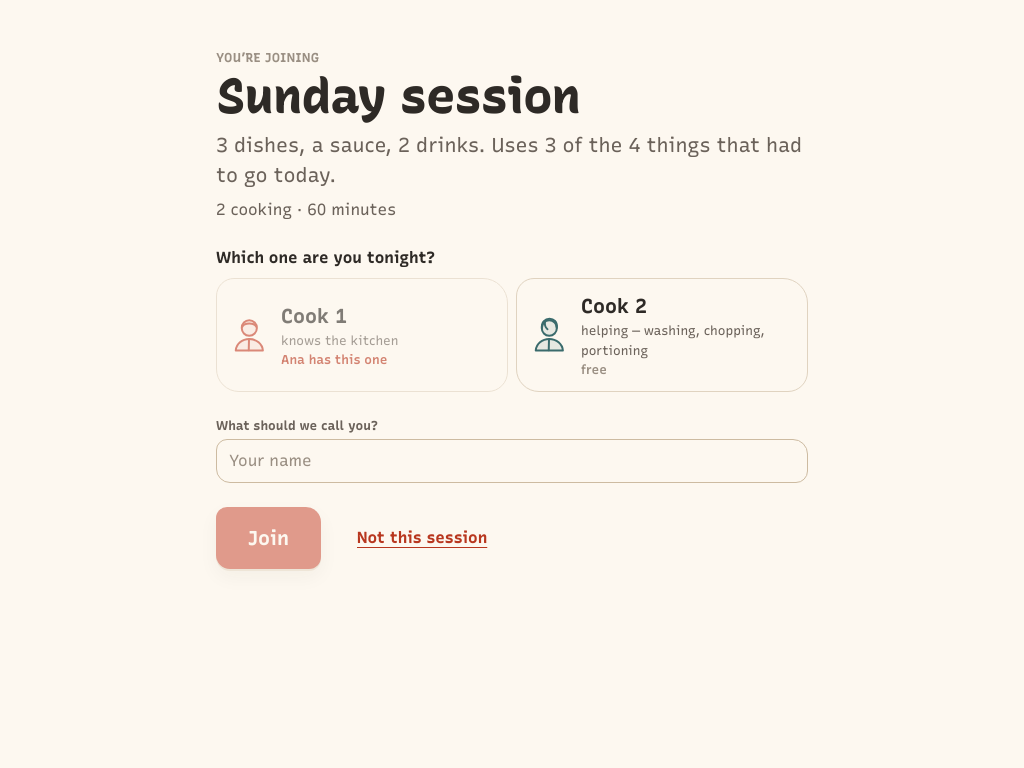
Test: joining › offers the free cooks, names who took the others, and joins as the one chosen
The width and height of the screenshot is (1024, 768).
Expected: the button "Join" is disabled, [216, 507, 321, 569]
Click the radio button labelled "Cook 2 helping — washing, chopping, portioning free" at (662, 335), box [516, 278, 808, 392]
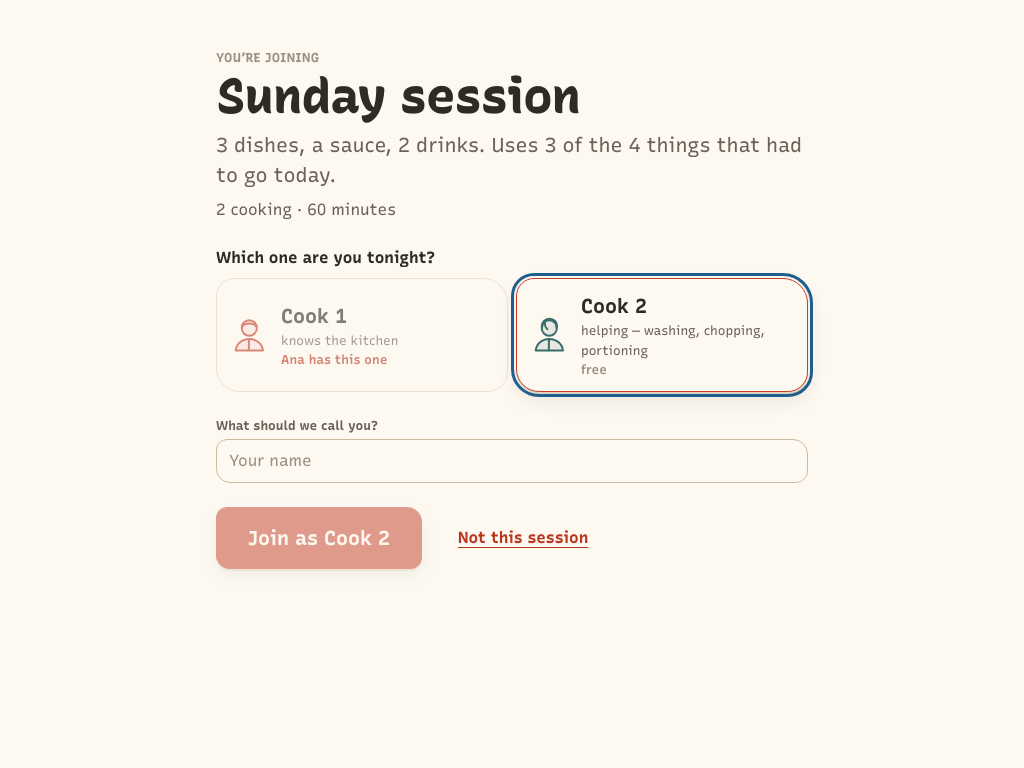
Type "Ben" into the field labelled "What should we call you?" at (512, 461), box [216, 439, 808, 483]
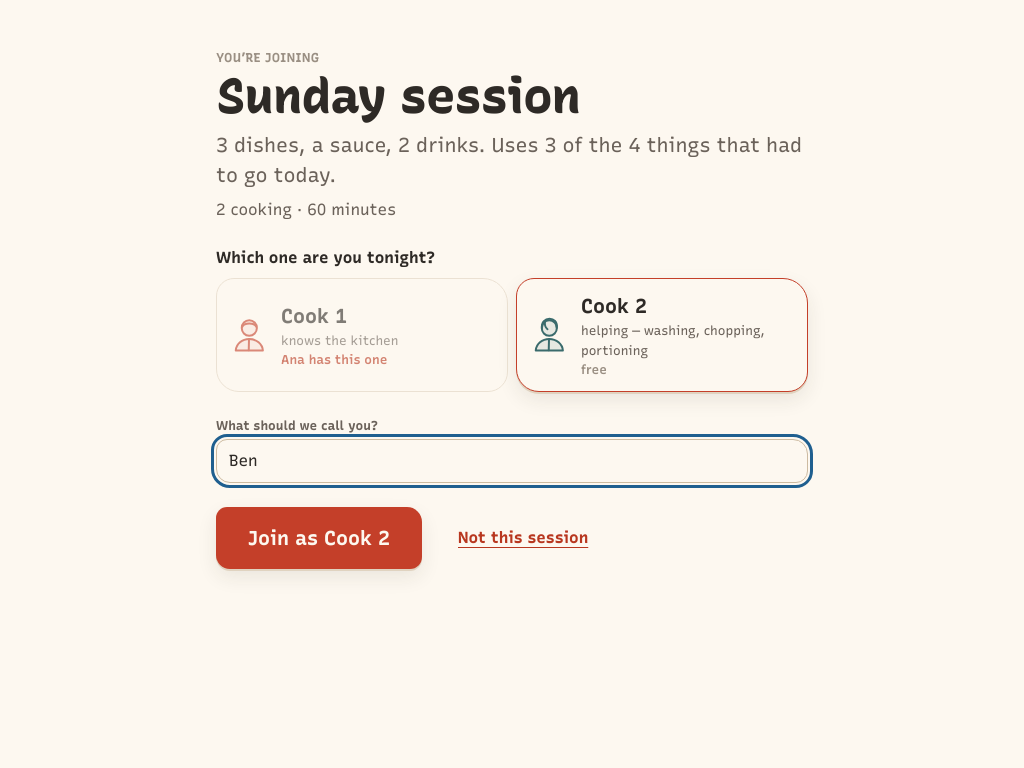
Click the button "Join as Cook 2" at (319, 538), box [216, 507, 422, 569]
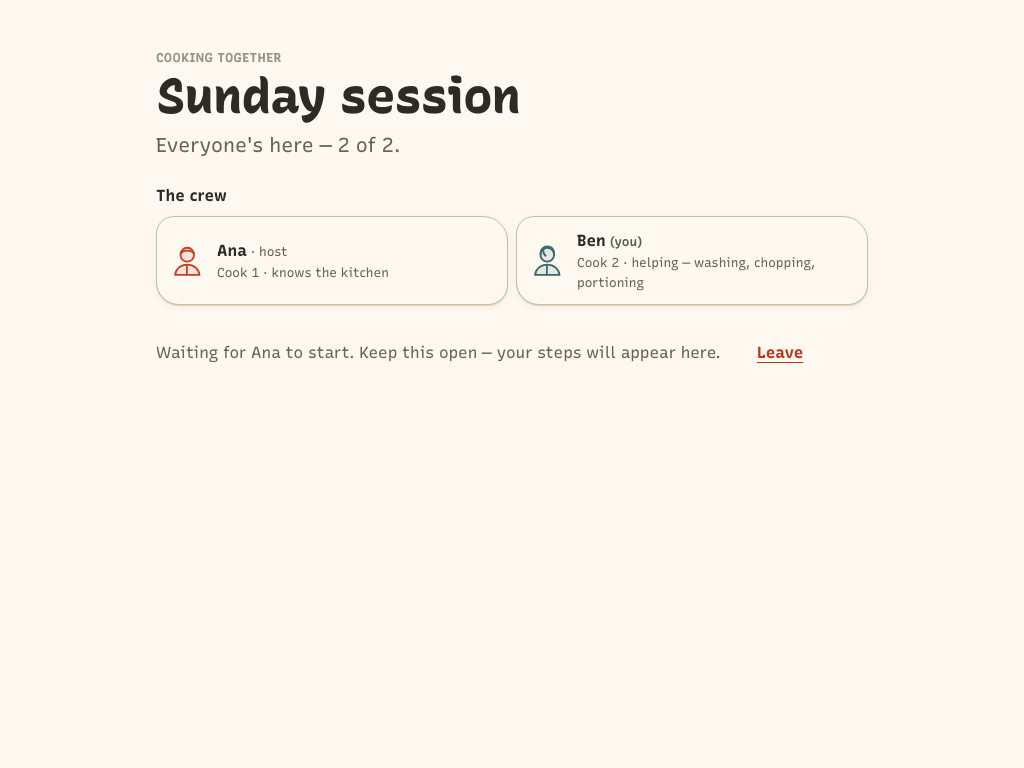
Result: the text "Waiting for Ana to start. Keep this open — your steps will appear here." is shown at [156, 341, 721, 365]
